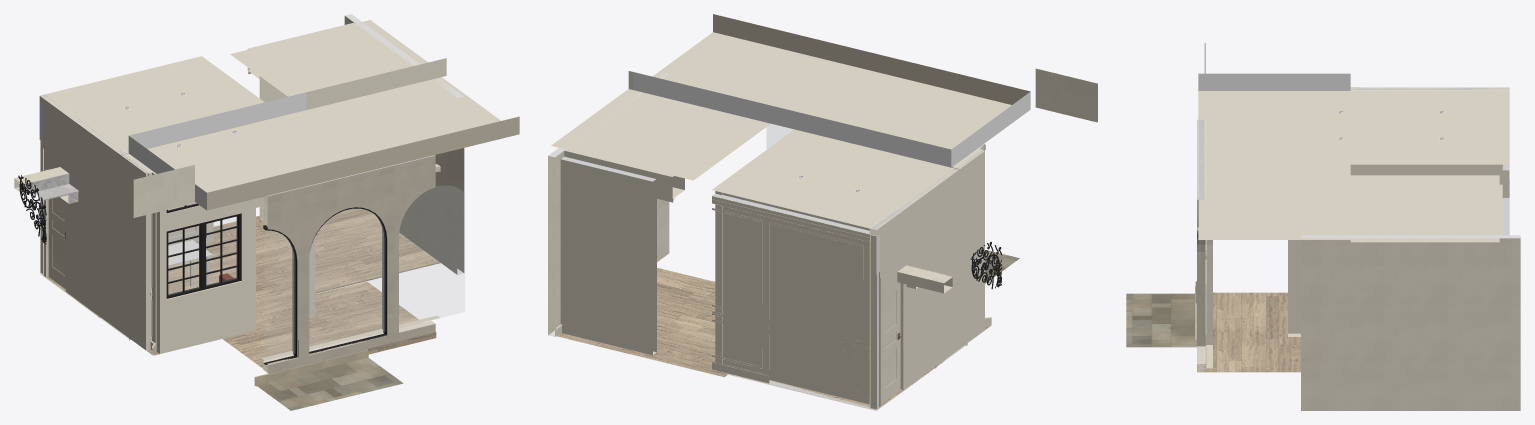
File: office-west-4a7771677fa7.glb
The picture shows the model from 3 angles, left to right: view 1: azimuth 30°, elevation 25°; view 2: azimuth 150°, elevation 25°; view 3: azimuth 270°, elevation 25°; orthographic projection. The views are drawn at different scales.
Parts seen in each view (by area): view 1: office-west-look-dbd60ee5c3733ed6, office-west-6a051330000fbca1, office-west-look-c9e78b9ec1bb39cd, office-west-look-2575515a05775d9e, office-west-2575515a05775d9e, office-west-look-c02a36d0521470a9, office-west-a822d30aa9e2c55a, office-west-look-5cbcc744e6f960f3, office-west-look-3b0077416469e01b, office-west-look-c374268555806af8, office-west-look-6a1144f4e43410bb, office-west-dbd60ee5c3733ed6 (+18 smaller); view 2: office-west-look-dbd60ee5c3733ed6, office-west-fca9ba73dd7496f7, office-west-6a051330000fbca1, office-west-look-19647d6da46c2b80, office-west-2575515a05775d9e, office-west-look-2575515a05775d9e, office-west-look-3b0077416469e01b, office-west-19647d6da46c2b80, office-west-look-6a1144f4e43410bb, office-west-look-34525a54e63b733b, office-west-dbd60ee5c3733ed6, office-west-80d276f58a4dc5cb (+9 smaller); view 3: office-west-look-6a1144f4e43410bb, office-west-look-dbd60ee5c3733ed6, office-west-2575515a05775d9e, office-west-look-2575515a05775d9e, office-west-look-c374268555806af8, office-west-dbd60ee5c3733ed6, office-west-look-982408871810a50e, office-west-7b11e78295c2e11d, office-west-look-c9e78b9ec1bb39cd, office-west-look-e54cb06e326b7f4f, office-west-a822d30aa9e2c55a, office-west-9cfa99552c9f4048 (+1 smaller).
Boxes of the visible parts, x1,y1,x2,y2 form: office-west-look-dbd60ee5c3733ed6: (128,77,519,210); office-west-6a051330000fbca1: (39,94,156,351); office-west-look-c9e78b9ec1bb39cd: (263,155,435,372); office-west-look-2575515a05775d9e: (230,20,446,109); office-west-2575515a05775d9e: (40,56,282,155); office-west-look-c02a36d0521470a9: (309,209,385,349); office-west-a822d30aa9e2c55a: (156,139,307,353); office-west-look-5cbcc744e6f960f3: (399,186,464,327); office-west-look-3b0077416469e01b: (213,208,440,298); office-west-look-c374268555806af8: (223,281,436,370); office-west-look-6a1144f4e43410bb: (344,14,464,274); office-west-dbd60ee5c3733ed6: (128,116,314,173); office-west-look-dbd60ee5c3733ed6: (633,14,1030,166); office-west-fca9ba73dd7496f7: (722,193,840,396); office-west-6a051330000fbca1: (869,146,984,408); office-west-look-19647d6da46c2b80: (560,156,656,355); office-west-2575515a05775d9e: (712,129,958,228); office-west-look-2575515a05775d9e: (551,71,770,180); office-west-look-3b0077416469e01b: (557,267,727,377); office-west-19647d6da46c2b80: (712,193,869,407); office-west-look-6a1144f4e43410bb: (548,72,669,336); office-west-look-34525a54e63b733b: (1035,68,1097,122); office-west-dbd60ee5c3733ed6: (794,105,983,167); office-west-80d276f58a4dc5cb: (883,283,900,402); office-west-look-6a1144f4e43410bb: (1301,235,1520,410); office-west-look-dbd60ee5c3733ed6: (1198,73,1350,239); office-west-2575515a05775d9e: (1350,87,1509,164); office-west-look-2575515a05775d9e: (1350,175,1499,242); office-west-look-c374268555806af8: (1197,292,1300,372); office-west-dbd60ee5c3733ed6: (1288,90,1350,164); office-west-look-982408871810a50e: (1126,293,1196,347); office-west-7b11e78295c2e11d: (1288,161,1502,336); office-west-look-c9e78b9ec1bb39cd: (1197,119,1205,371); office-west-look-e54cb06e326b7f4f: (1206,240,1212,368); office-west-a822d30aa9e2c55a: (1288,91,1295,333); office-west-9cfa99552c9f4048: (1350,164,1478,169).
Bounding box in the file's own units: 6.87 × 3.92 × 6.21.
26 materials, 8 textured.
